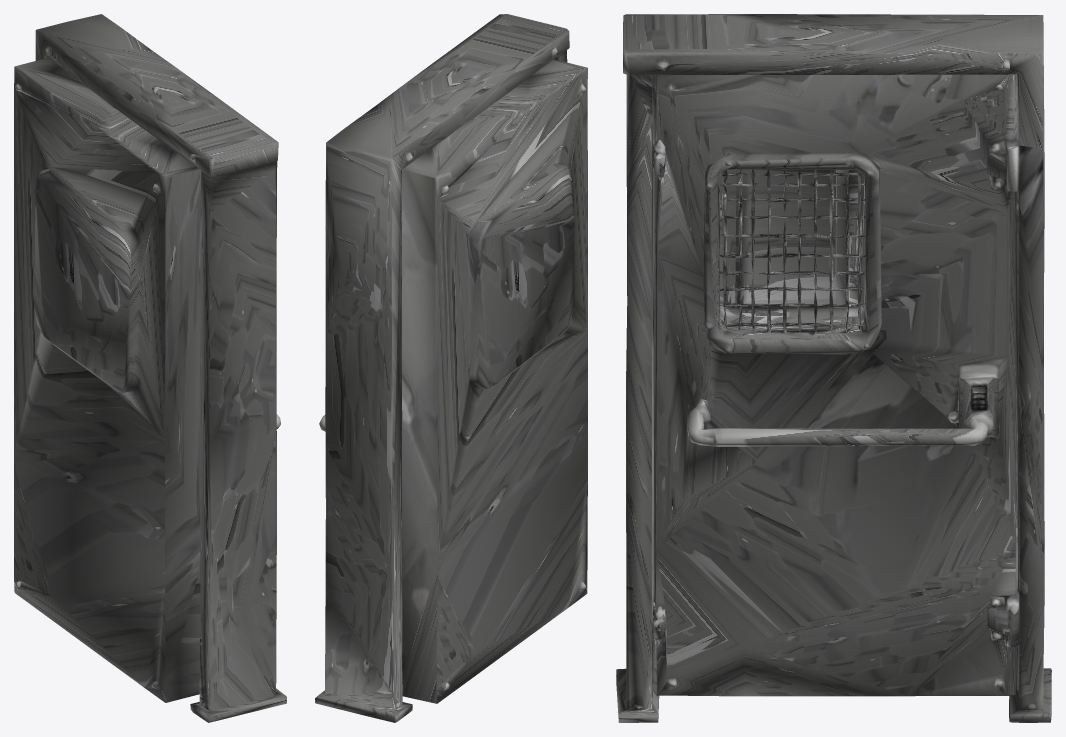
Rendered from gov_steel_door.glb.
The picture shows the model from 3 angles, left to right: view 1: azimuth 30°, elevation 25°; view 2: azimuth 150°, elevation 25°; view 3: azimuth 270°, elevation 25°; orthographic projection. The views are drawn at different scales.
Parts seen in each view (by area): view 1: tripo_node_4c8a229f-14e3-4b28-88aa-7cb9c7576c39; view 2: tripo_node_4c8a229f-14e3-4b28-88aa-7cb9c7576c39; view 3: tripo_node_4c8a229f-14e3-4b28-88aa-7cb9c7576c39.
Part boxes in pixels (bbox=[...]): tripo_node_4c8a229f-14e3-4b28-88aa-7cb9c7576c39: bbox=[14, 14, 286, 722]; tripo_node_4c8a229f-14e3-4b28-88aa-7cb9c7576c39: bbox=[315, 14, 587, 722]; tripo_node_4c8a229f-14e3-4b28-88aa-7cb9c7576c39: bbox=[616, 14, 1051, 722].
Size of the model in its own units: 0.2762 by 0.9997 by 0.5919.
Materials: 1 (1 with a texture image).
